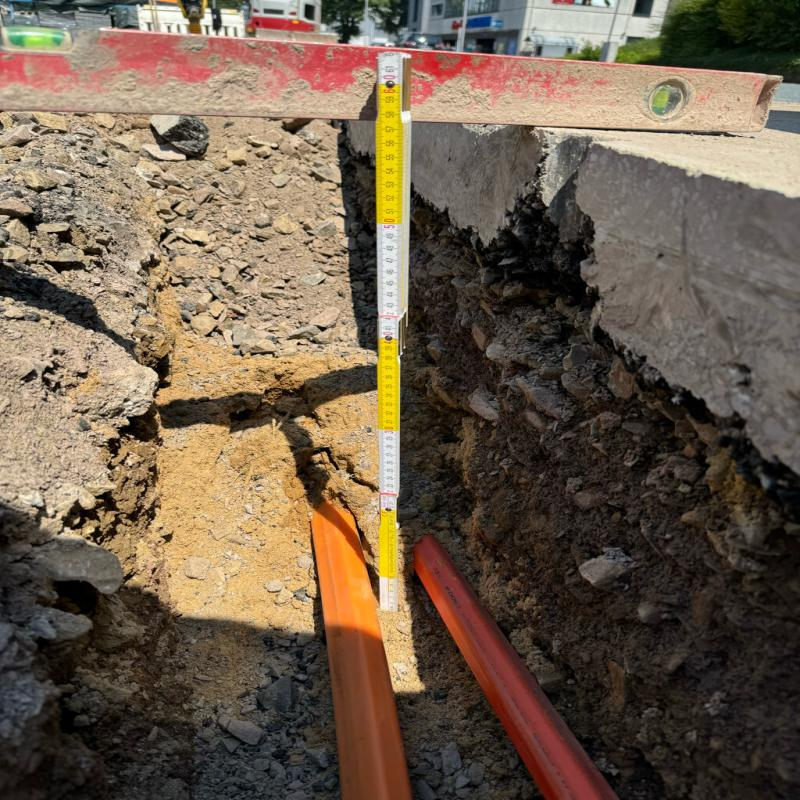Orang-Speednetrohrchen: (412, 540, 618, 800), (312, 502, 407, 800)
